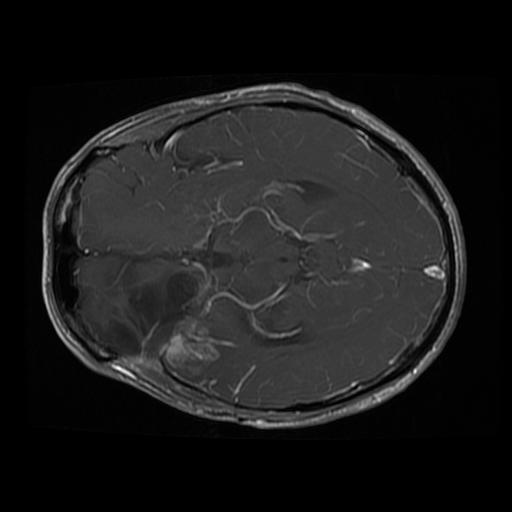glioma: (78, 261, 220, 386)
